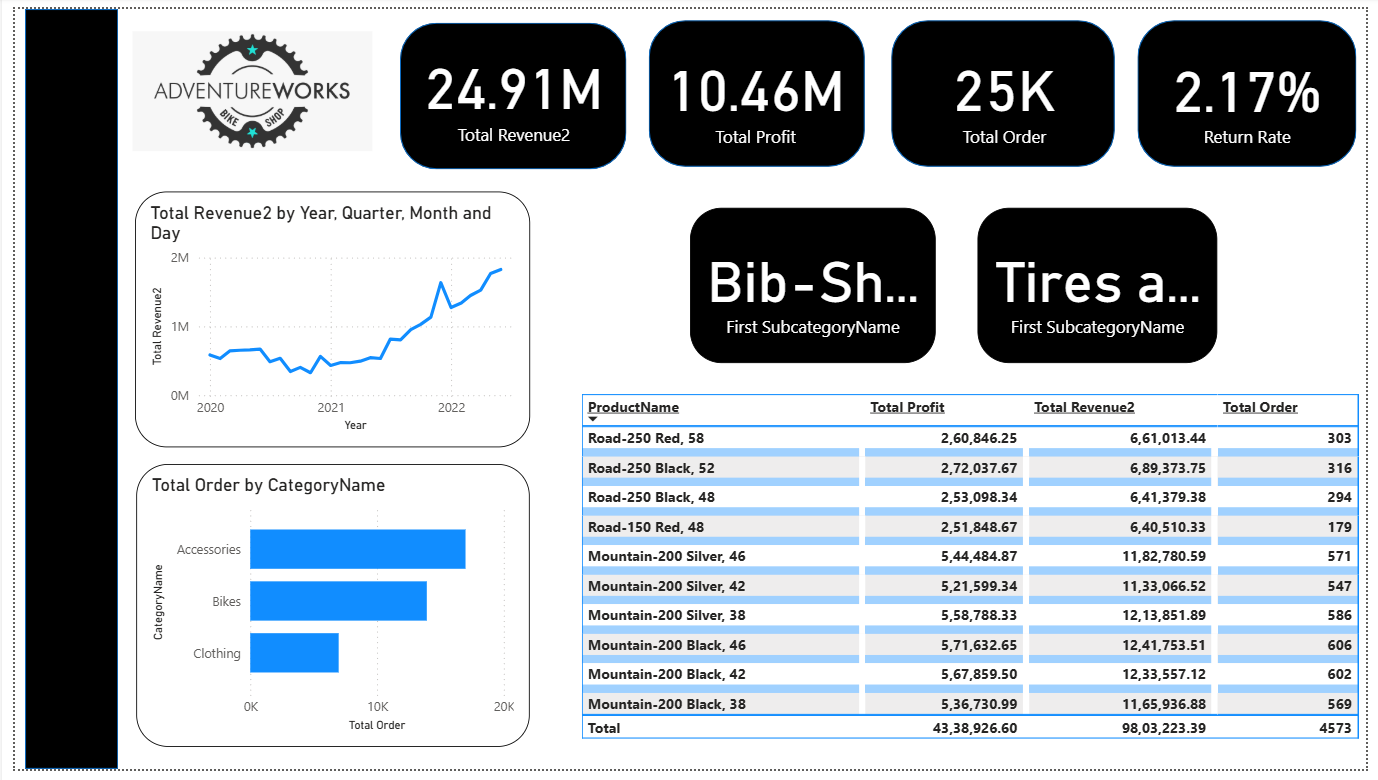

Layout of this report page (visuals, bound fields, positions):
{"tool":"powerbi","page":{"name":"Page 1","canvas":[1280,720],"ordinal":0},"visuals":[{"type":"image","box":[106.1,8.3,237.2,139.5],"z":0},{"type":"shape","box":[364.6,12.6,214.5,138.8],"z":1000},{"type":"shape","box":[600.2,11.2,204.7,138.8],"z":2000},{"type":"shape","box":[830.1,11.2,211.7,138.8],"z":3000},{"type":"shape","box":[1062.9,11.2,207.5,138.8],"z":4000},{"type":"shape","box":[9.5,0,88.2,720],"z":5000},{"type":"card","fields":{"Values":["Measure Table.Total Revenue2"]},"box":[378.6,18.2,187.9,124.8],"z":6000},{"type":"card","fields":{"Values":["Measure Table.Total Profit"]},"box":[612.8,30.9,179.5,102.4],"z":7000},{"type":"card","fields":{"Values":["Measure Table.Total Order"]},"box":[859.6,30.9,155.7,102.4],"z":8000},{"type":"card","fields":{"Values":["Measure Table.Return Rate"]},"box":[1064.3,7,206.1,150],"z":9000},{"type":"lineChart","fields":{"Category":["Calendar Lookup.Start of Month.Variation.Date Hierarchy.Year","Calendar Lookup.Start of Month.Variation.Date Hierarchy.Quarter","Calendar Lookup.Start of Month.Variation.Date Hierarchy.Month","Calendar Lookup.Start of Month.Variation.Date Hierarchy.Day"],"Y":["Measure Table.Total Revenue2"]},"box":[113.6,172.5,374.4,242.6],"z":10000},{"type":"barChart","fields":{"Y":["Measure Table.Total Order"],"Category":["Product Categories Lookup.CategoryName"]},"box":[115,430.5,373,267.8],"z":11000},{"type":"card","fields":{"Values":["Min(Product Subcategories Lookup.SubcategoryName)"]},"box":[911.5,187.9,227.2,147.2],"z":12000},{"type":"card","fields":{"Values":["Min(Product Subcategories Lookup.SubcategoryName)"]},"box":[639.4,187.9,232.8,147.2],"z":13000},{"type":"tableEx","fields":{"Values":["Product Lookup.ProductName","Measure Table.Total Profit","Measure Table.Total Revenue2","Measure Table.Total Order"]},"box":[530.1,360.4,750.2,337.9],"z":14000}]}

Visuals, with their boxes in screenshot pixels (x1, y1, x2, y2), scaled from the page's 1280x720 canvas onto the 1378x780 screenshot:
image: x1=114 y1=9 x2=370 y2=160
shape: x1=393 y1=14 x2=623 y2=164
shape: x1=646 y1=12 x2=867 y2=162
shape: x1=894 y1=12 x2=1122 y2=162
shape: x1=1144 y1=12 x2=1368 y2=162
shape: x1=10 y1=0 x2=105 y2=779
card - Measure Table.Total Revenue2: x1=408 y1=20 x2=610 y2=155
card - Measure Table.Total Profit: x1=660 y1=33 x2=853 y2=144
card - Measure Table.Total Order: x1=925 y1=33 x2=1093 y2=144
card - Measure Table.Return Rate: x1=1146 y1=8 x2=1368 y2=170
lineChart - Calendar Lookup.Start of Month.Variation.Date Hierarchy.Year x Calendar Lookup.Start of Month.Variation.Date Hierarchy.Quarter: x1=122 y1=187 x2=525 y2=450
barChart - Measure Table.Total Order x Product Categories Lookup.CategoryName: x1=124 y1=466 x2=525 y2=756
card - Min(Product Subcategories Lookup.SubcategoryName): x1=981 y1=204 x2=1226 y2=363
card - Min(Product Subcategories Lookup.SubcategoryName): x1=688 y1=204 x2=939 y2=363
tableEx - Product Lookup.ProductName x Measure Table.Total Profit: x1=571 y1=390 x2=1377 y2=756
